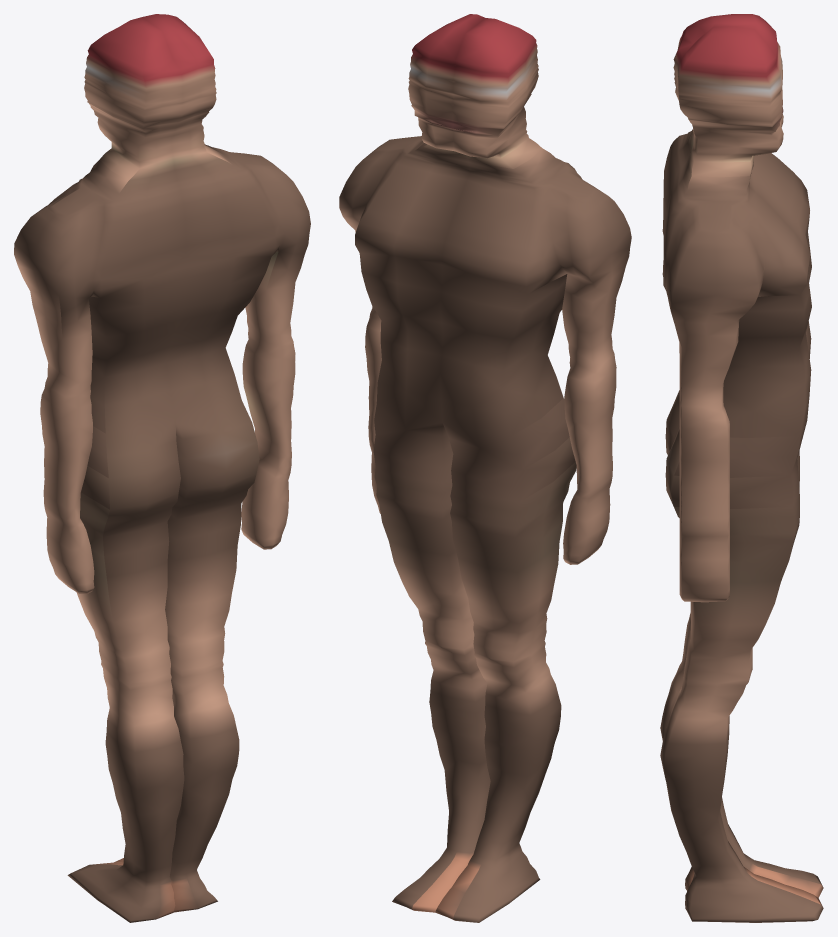
The model's file is humanblend_nobones.fbx.
3 renders of one model, left to right at view 1: azimuth 30°, elevation 25°; view 2: azimuth 150°, elevation 25°; view 3: azimuth 270°, elevation 25°, orthographic. The views are drawn at different scales.
Visible parts, largest first — view 1: Plane; view 2: Plane; view 3: Plane.
Part boxes in pixels (bbox=[...]): Plane: bbox=[14, 14, 310, 922]; Plane: bbox=[339, 14, 631, 922]; Plane: bbox=[660, 14, 823, 922].
Size of the model in its own units: 0.92 by 2.98 by 0.5013.
